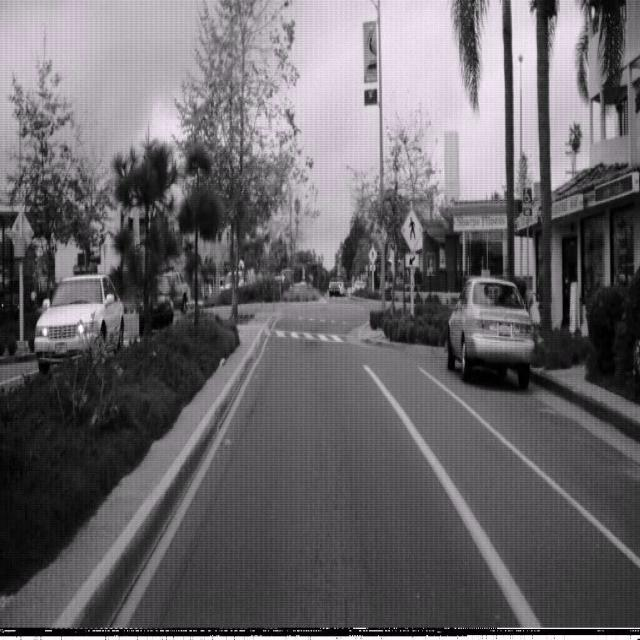pedestrianCrossing: (400, 206, 423, 254)
